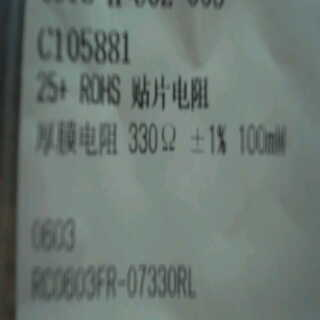330R: (124, 121, 183, 156)
